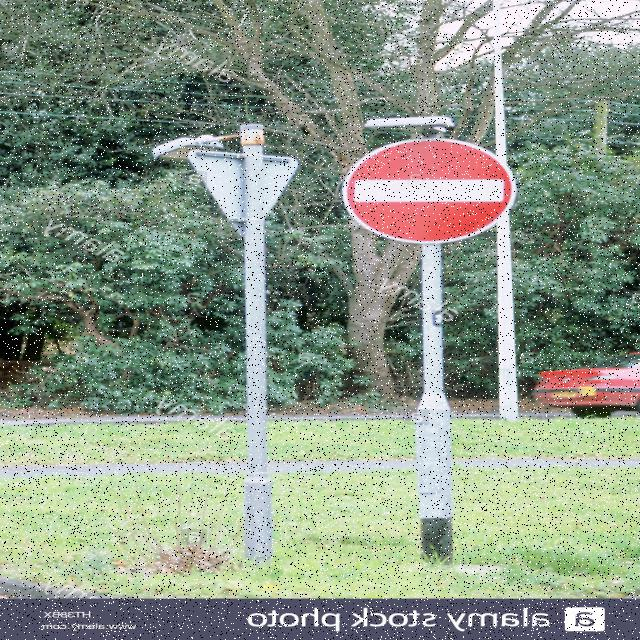no entry: (342, 134, 518, 234)
